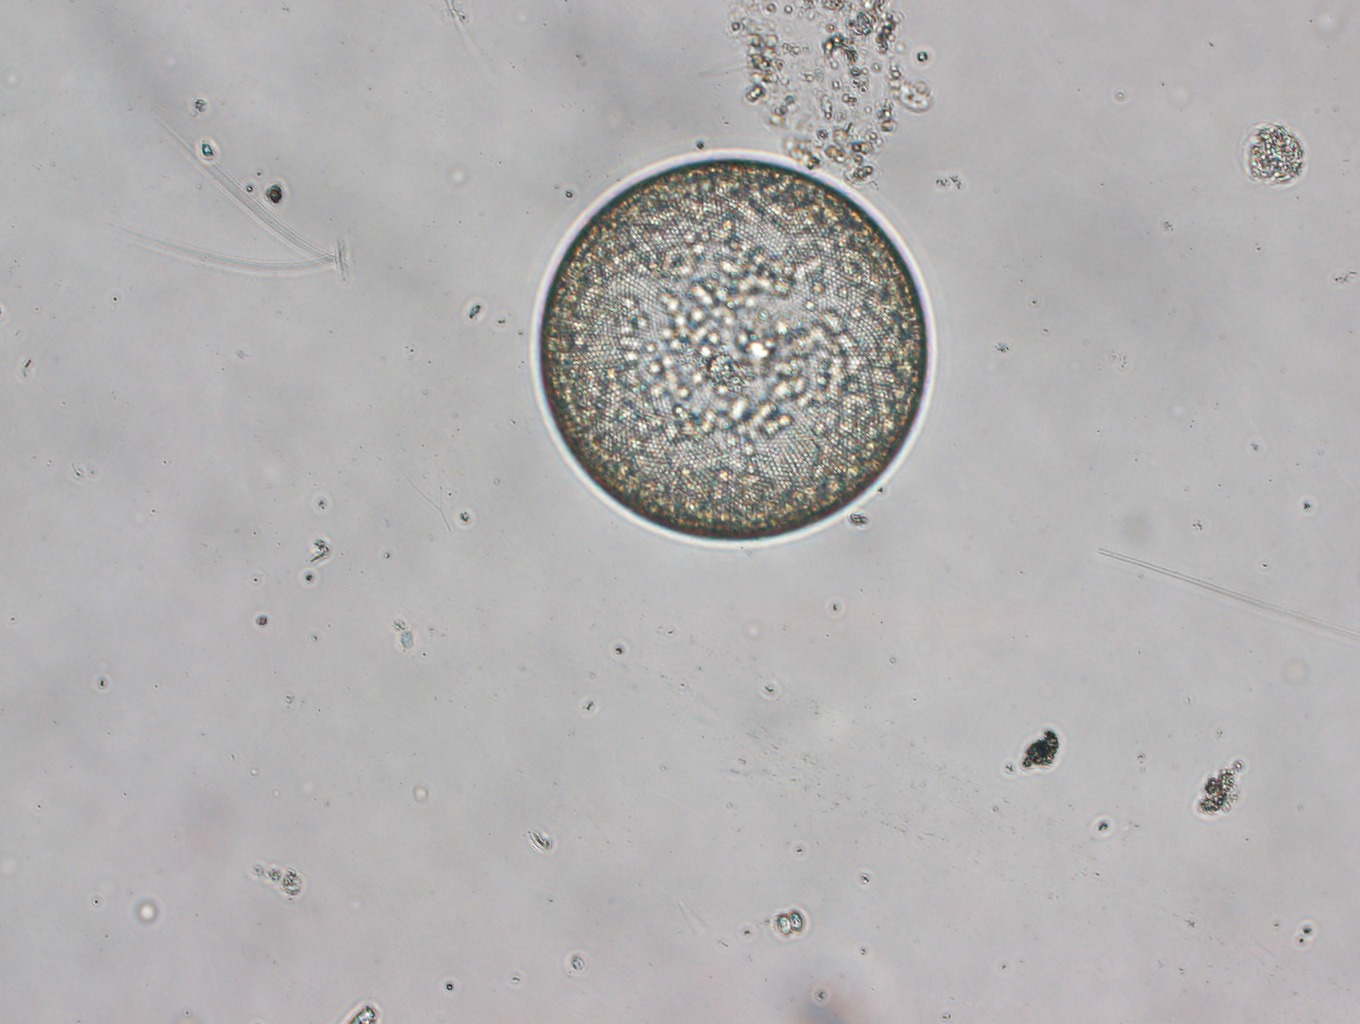coscinodiscus: (520, 141, 947, 557)
